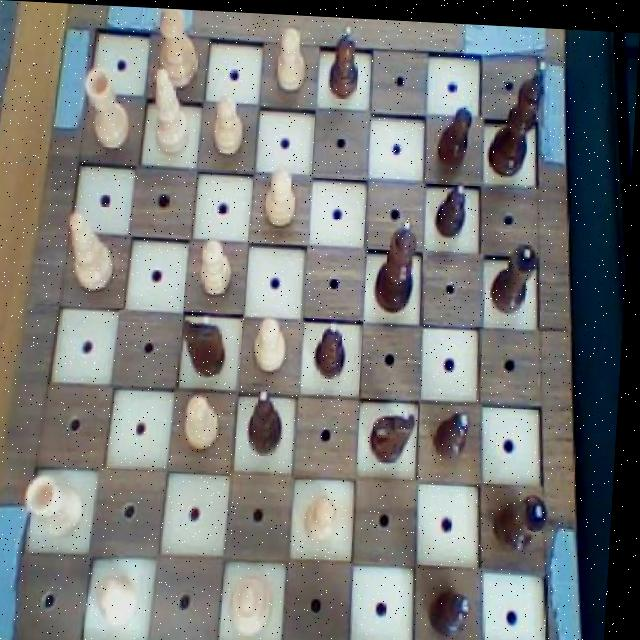black-bishop: (485, 48, 551, 174)
black-king: (181, 307, 235, 380), (368, 397, 422, 463), (249, 385, 291, 456)
black-knight: (325, 18, 365, 98), (433, 96, 476, 169), (433, 579, 480, 637), (435, 402, 477, 462), (314, 315, 353, 378), (435, 177, 473, 237)
black-pawn: (371, 211, 427, 317)
black-queen: (488, 233, 546, 313), (495, 484, 557, 554)
black-rook: (65, 206, 124, 294), (147, 63, 198, 160)
white-bishop: (151, 7, 204, 93)
white-knight: (270, 19, 314, 97), (99, 568, 151, 633), (199, 228, 239, 295), (209, 89, 248, 157), (186, 388, 228, 451), (254, 310, 294, 376), (264, 162, 302, 229), (306, 487, 349, 545)
white-pawn: (233, 569, 284, 636)
white-queen: (79, 62, 139, 153), (27, 472, 95, 543)
